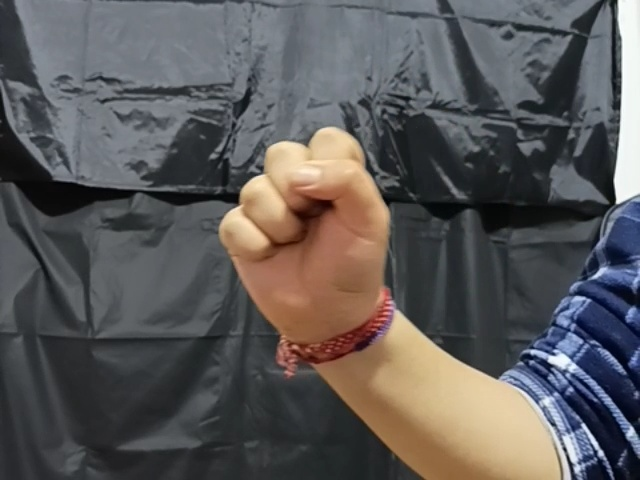S: (221, 125, 396, 315)
